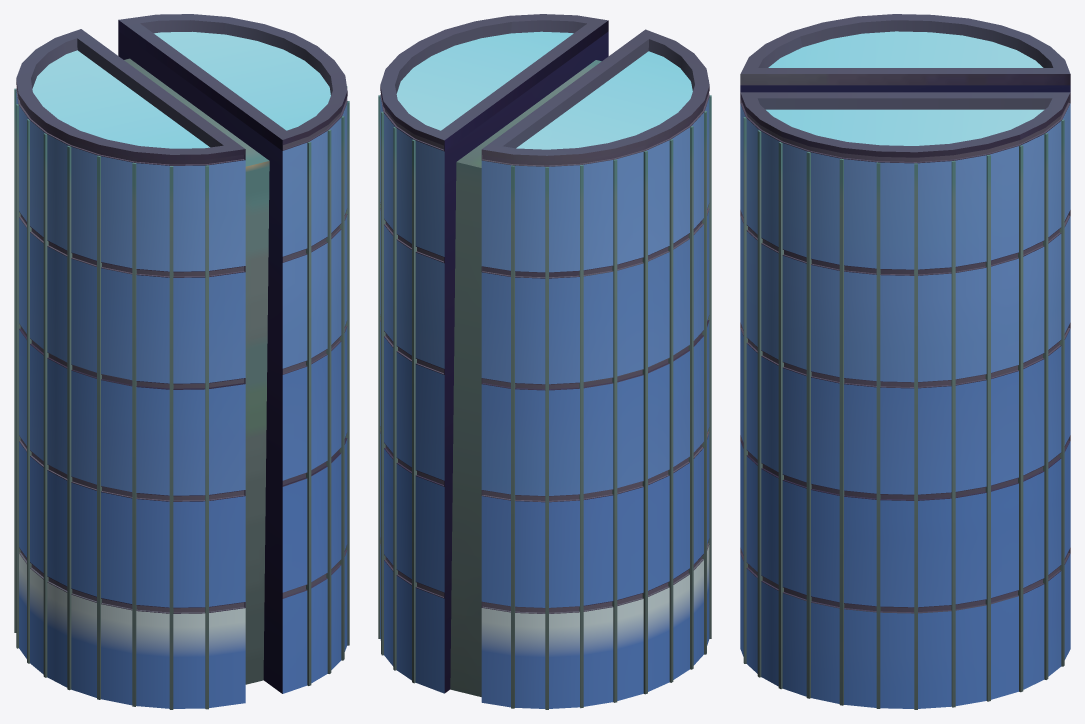
Rendered from BUD04.fbx.
3 views of the same model, side by side, from view 1: azimuth 30°, elevation 25°; view 2: azimuth 150°, elevation 25°; view 3: azimuth 270°, elevation 25° (orthographic).
Visible parts, largest first — view 1: BUD04; view 2: BUD04; view 3: BUD04.
Boxes of the visible parts, bbox=[...] form: BUD04: bbox=[14, 14, 349, 709]; BUD04: bbox=[378, 14, 711, 709]; BUD04: bbox=[740, 14, 1070, 709].
Size of the model in its own units: 1.58 by 2.92 by 1.57.
